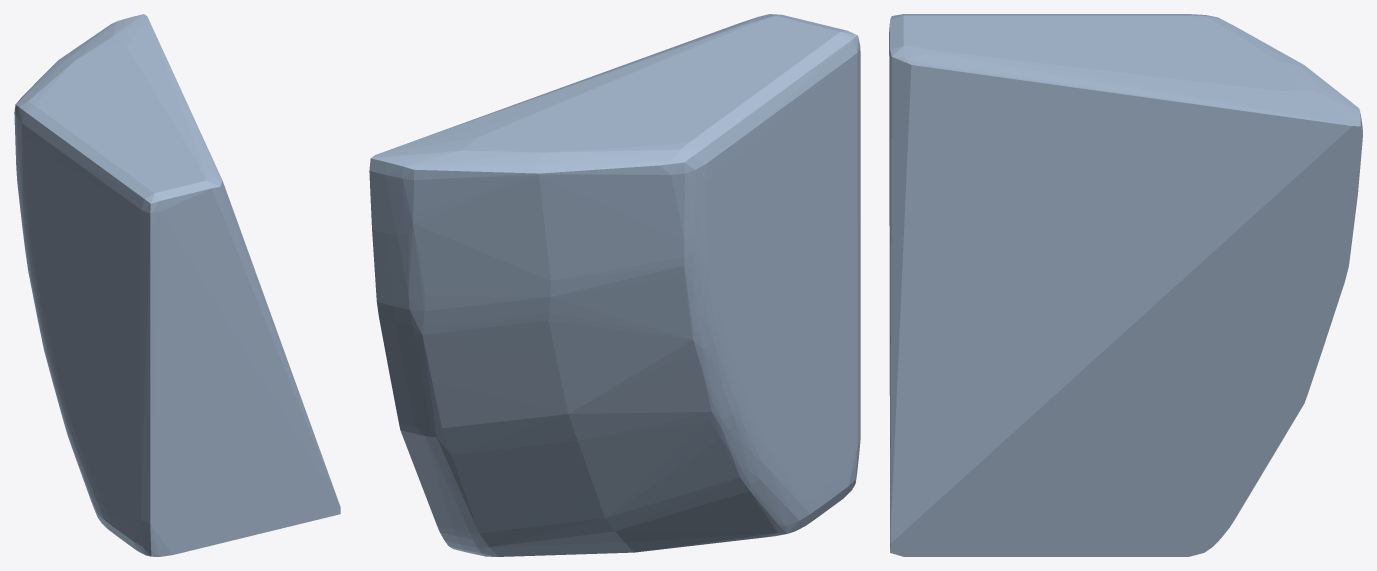
The model's file is left_hip_yaw_link_part_6.obj.
The picture shows the model from 3 angles, left to right: view 1: azimuth 30°, elevation 25°; view 2: azimuth 150°, elevation 25°; view 3: azimuth 270°, elevation 25°; orthographic projection. The views are drawn at different scales.
Size of the model in its own units: 0.0185 by 0.0333 by 0.0328.
